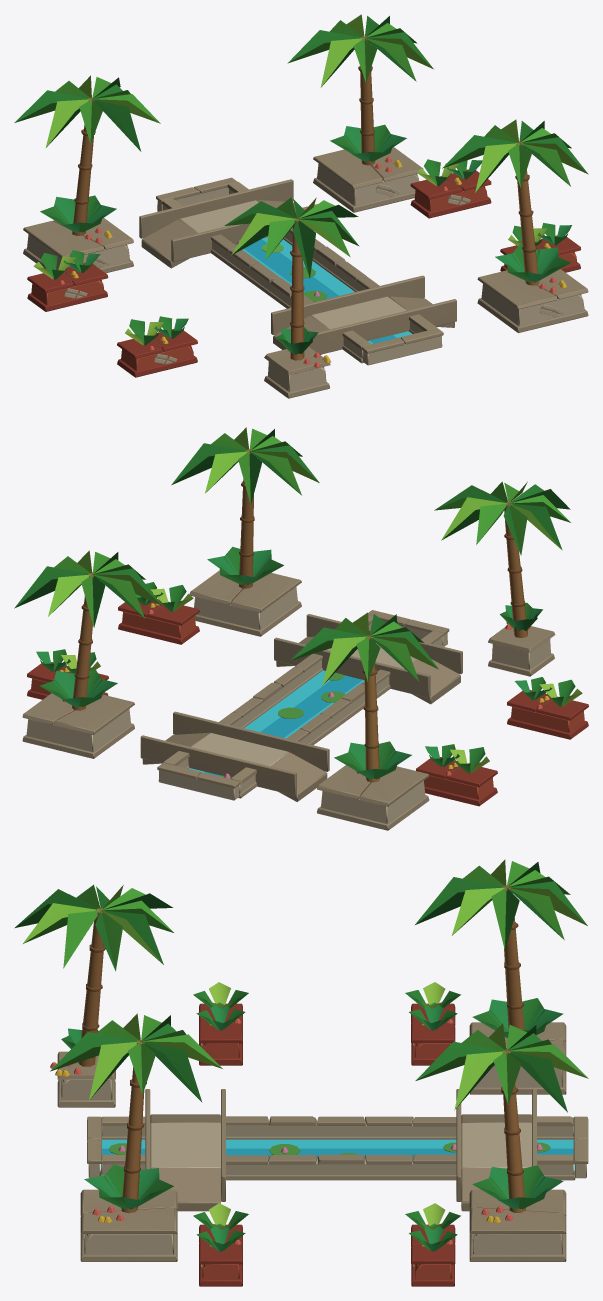
File: interior_garden.glb
3 views of the same model, one above another, from view 1: azimuth 30°, elevation 25°; view 2: azimuth 150°, elevation 25°; view 3: azimuth 270°, elevation 25° (orthographic). The views are drawn at different scales.
Parts seen in each view (by area): view 1: interior_garden; view 2: interior_garden; view 3: interior_garden.
Boxes of the visible parts, bbox=[...] form: interior_garden: bbox=[14, 14, 588, 398]; interior_garden: bbox=[14, 427, 588, 830]; interior_garden: bbox=[14, 859, 588, 1286].
Bounding box in the file's own units: 17.35 × 6.64 × 16.27.
